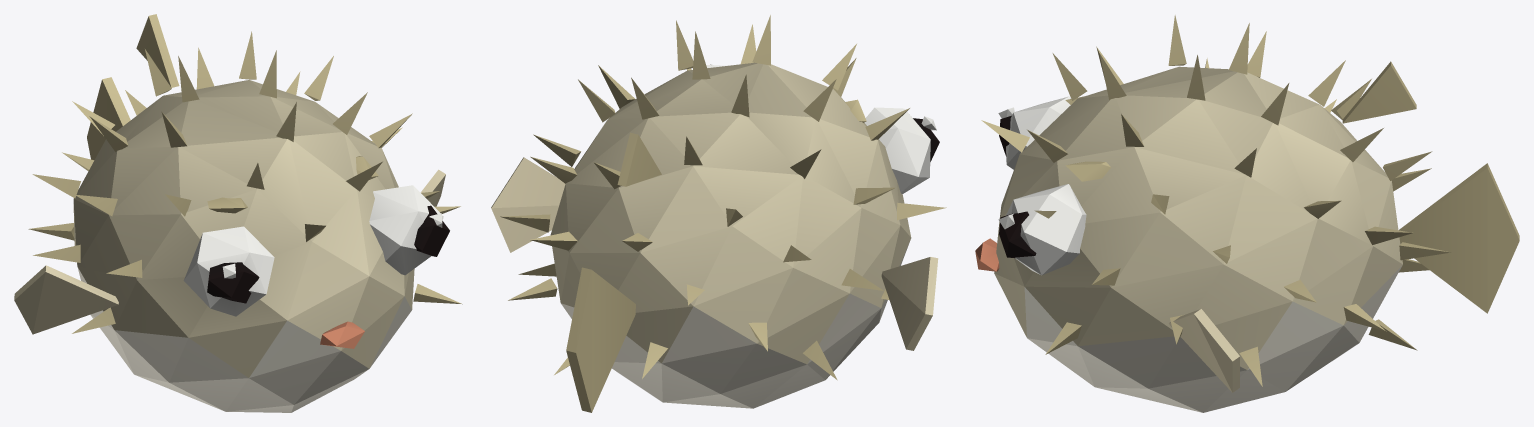
Rendered from puffer.glb.
3 renders of one model, left to right at view 1: azimuth 30°, elevation 25°; view 2: azimuth 150°, elevation 25°; view 3: azimuth 270°, elevation 25°, orthographic. The views are drawn at different scales.
Visible parts, largest first — view 1: base, pL_m, tail_m, pR_m; view 2: base, tail_m, pR_m, pL_m; view 3: base, tail_m, pR_m.
Boxes of the visible parts, box(x1,y1,x2,y2) form: base: box(28, 14, 462, 412); pL_m: box(14, 265, 118, 334); tail_m: box(87, 77, 130, 160); pR_m: box(420, 169, 445, 206); base: box(500, 15, 946, 408); tail_m: box(566, 267, 635, 412); pR_m: box(491, 157, 565, 252); pL_m: box(881, 257, 938, 350); base: box(975, 15, 1450, 412); tail_m: box(1399, 163, 1519, 313); pR_m: box(1169, 308, 1239, 392).
Bounding box in the file's own units: 0.1615 × 0.1216 × 0.1691.
